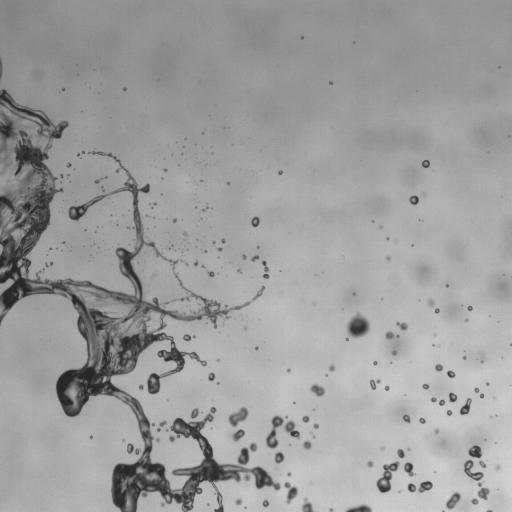droplet: (265, 415, 299, 448), (346, 312, 370, 338), (228, 406, 248, 427), (284, 482, 298, 504), (445, 492, 460, 509), (228, 429, 244, 441), (301, 497, 314, 511), (310, 384, 324, 396), (404, 462, 414, 476), (274, 451, 284, 463), (385, 331, 399, 339), (369, 379, 380, 389), (396, 322, 407, 330), (409, 195, 418, 204), (302, 440, 311, 449), (251, 216, 259, 226), (449, 392, 457, 402), (183, 334, 192, 341), (446, 370, 455, 377), (397, 449, 404, 458), (427, 299, 435, 306), (435, 364, 443, 371), (403, 414, 410, 422), (422, 160, 429, 167), (235, 498, 242, 505), (251, 255, 259, 261), (208, 372, 214, 380), (207, 271, 214, 277), (438, 399, 445, 405), (302, 416, 309, 422), (366, 461, 373, 467), (262, 499, 268, 506), (150, 202, 156, 208), (391, 350, 397, 355), (329, 365, 334, 371), (422, 384, 428, 389), (430, 397, 436, 402), (446, 410, 452, 415), (419, 418, 425, 423), (151, 273, 156, 278), (474, 387, 479, 392), (95, 179, 101, 183), (139, 384, 143, 390), (242, 254, 246, 259), (237, 268, 241, 273), (467, 306, 472, 310), (435, 308, 439, 313), (313, 424, 318, 428), (434, 429, 439, 433), (495, 465, 500, 469), (278, 170, 282, 174), (183, 232, 187, 236), (221, 238, 225, 242), (217, 247, 221, 251), (386, 256, 390, 260), (194, 261, 198, 265), (373, 361, 377, 365), (385, 386, 389, 390), (380, 446, 384, 450), (287, 472, 291, 476), (67, 163, 70, 167), (172, 219, 176, 222), (287, 368, 290, 372), (227, 181, 230, 184), (169, 246, 172, 249), (255, 346, 258, 349), (463, 356, 466, 359), (486, 382, 489, 385), (480, 394, 483, 397), (329, 508, 332, 511), (243, 327, 247, 329), (60, 174, 62, 177), (212, 241, 215, 243), (201, 265, 204, 267), (446, 284, 448, 287), (216, 359, 219, 361), (216, 382, 219, 384), (62, 88, 64, 90), (82, 151, 84, 153), (164, 169, 166, 171), (102, 188, 104, 190), (146, 215, 148, 217), (203, 250, 205, 252), (465, 319, 467, 321), (346, 338, 348, 340), (122, 439, 124, 441)
ligament: (0, 89, 278, 504), (464, 459, 489, 504), (376, 461, 399, 493), (468, 445, 485, 467), (407, 481, 432, 492), (345, 504, 372, 511), (460, 398, 471, 415), (262, 260, 269, 278), (156, 421, 166, 431), (0, 58, 2, 81), (45, 262, 52, 267), (203, 206, 209, 211), (310, 431, 314, 437), (486, 510, 491, 511), (510, 343, 511, 346)
